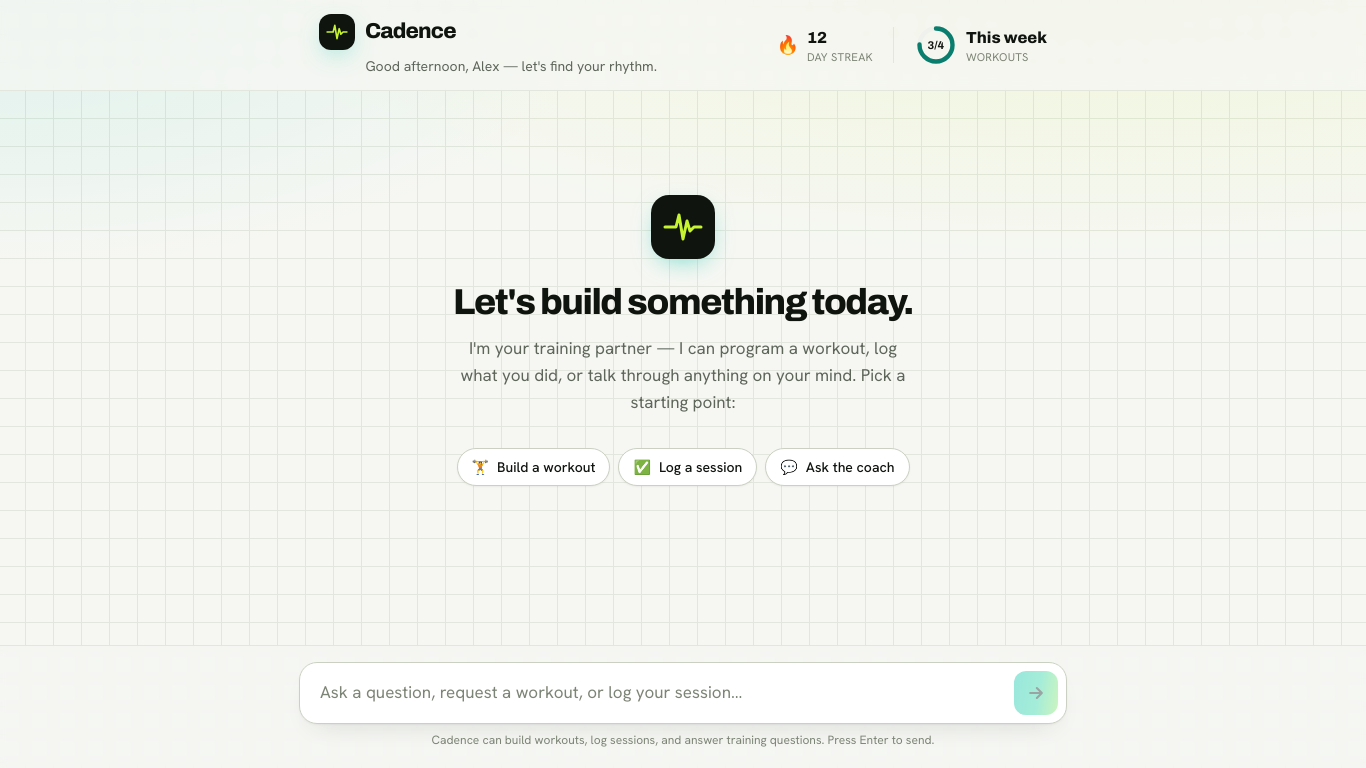
Test: ChatApp › renders the explanation panel when an explanation event is present
Type "chest workout, bad knee" into the text box at (657, 693), box [308,671,1006,715]
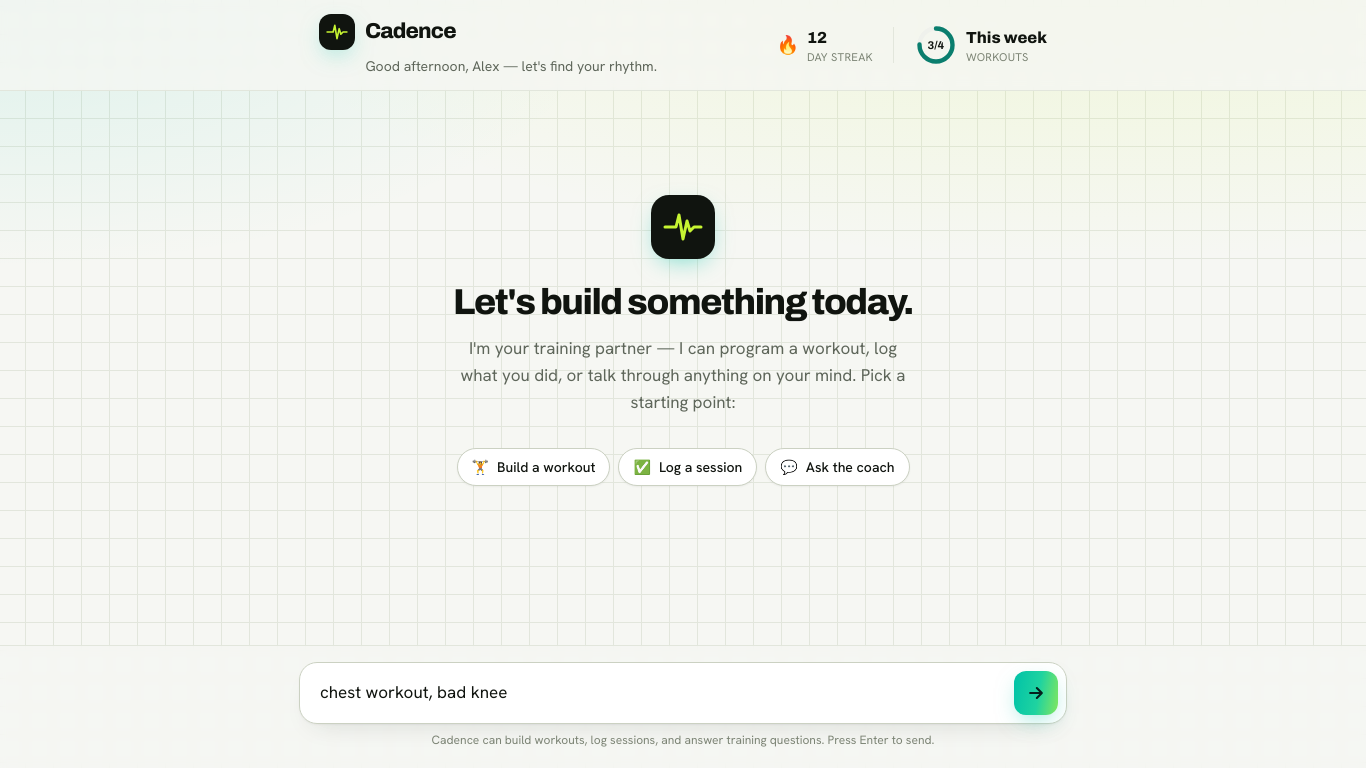
Submit the form, box [299,662,1067,724]
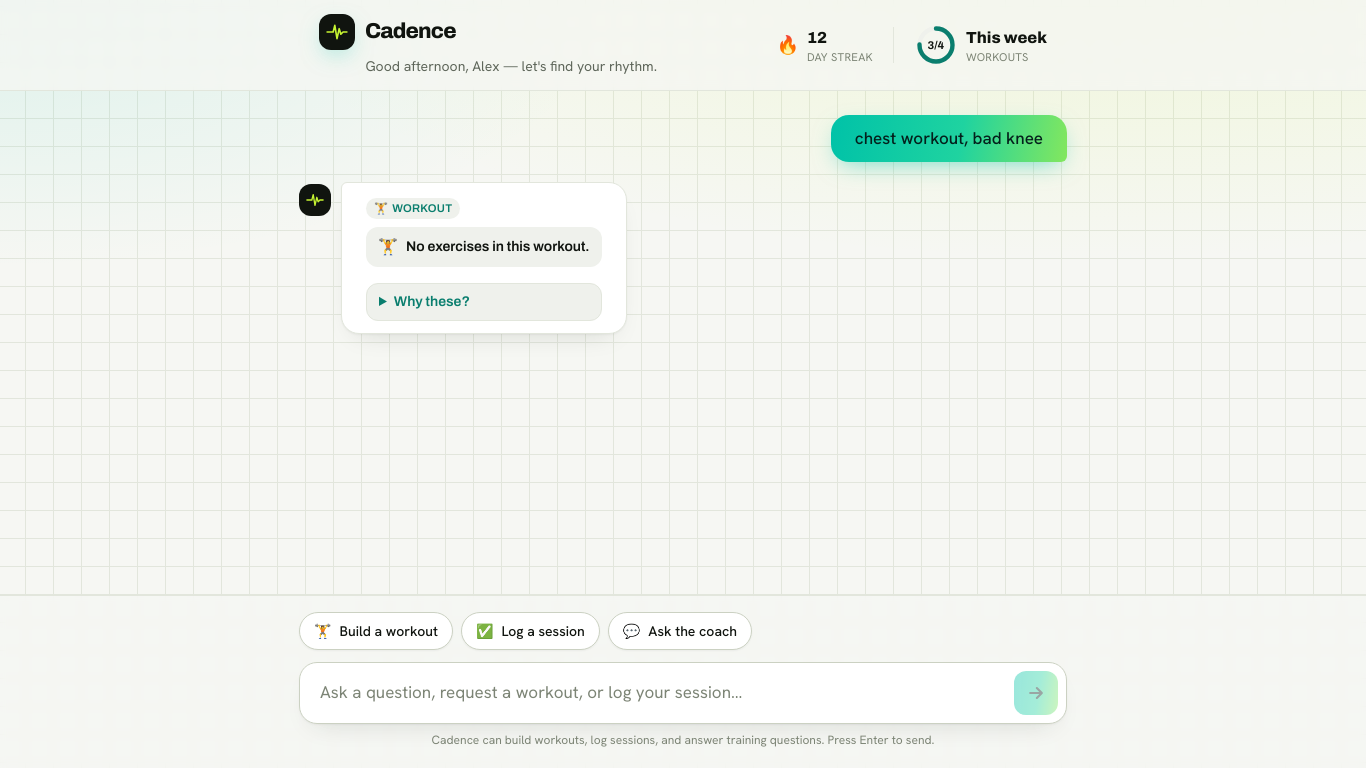
Now the text "Why these?" is shown, box [394,294,470,309]
